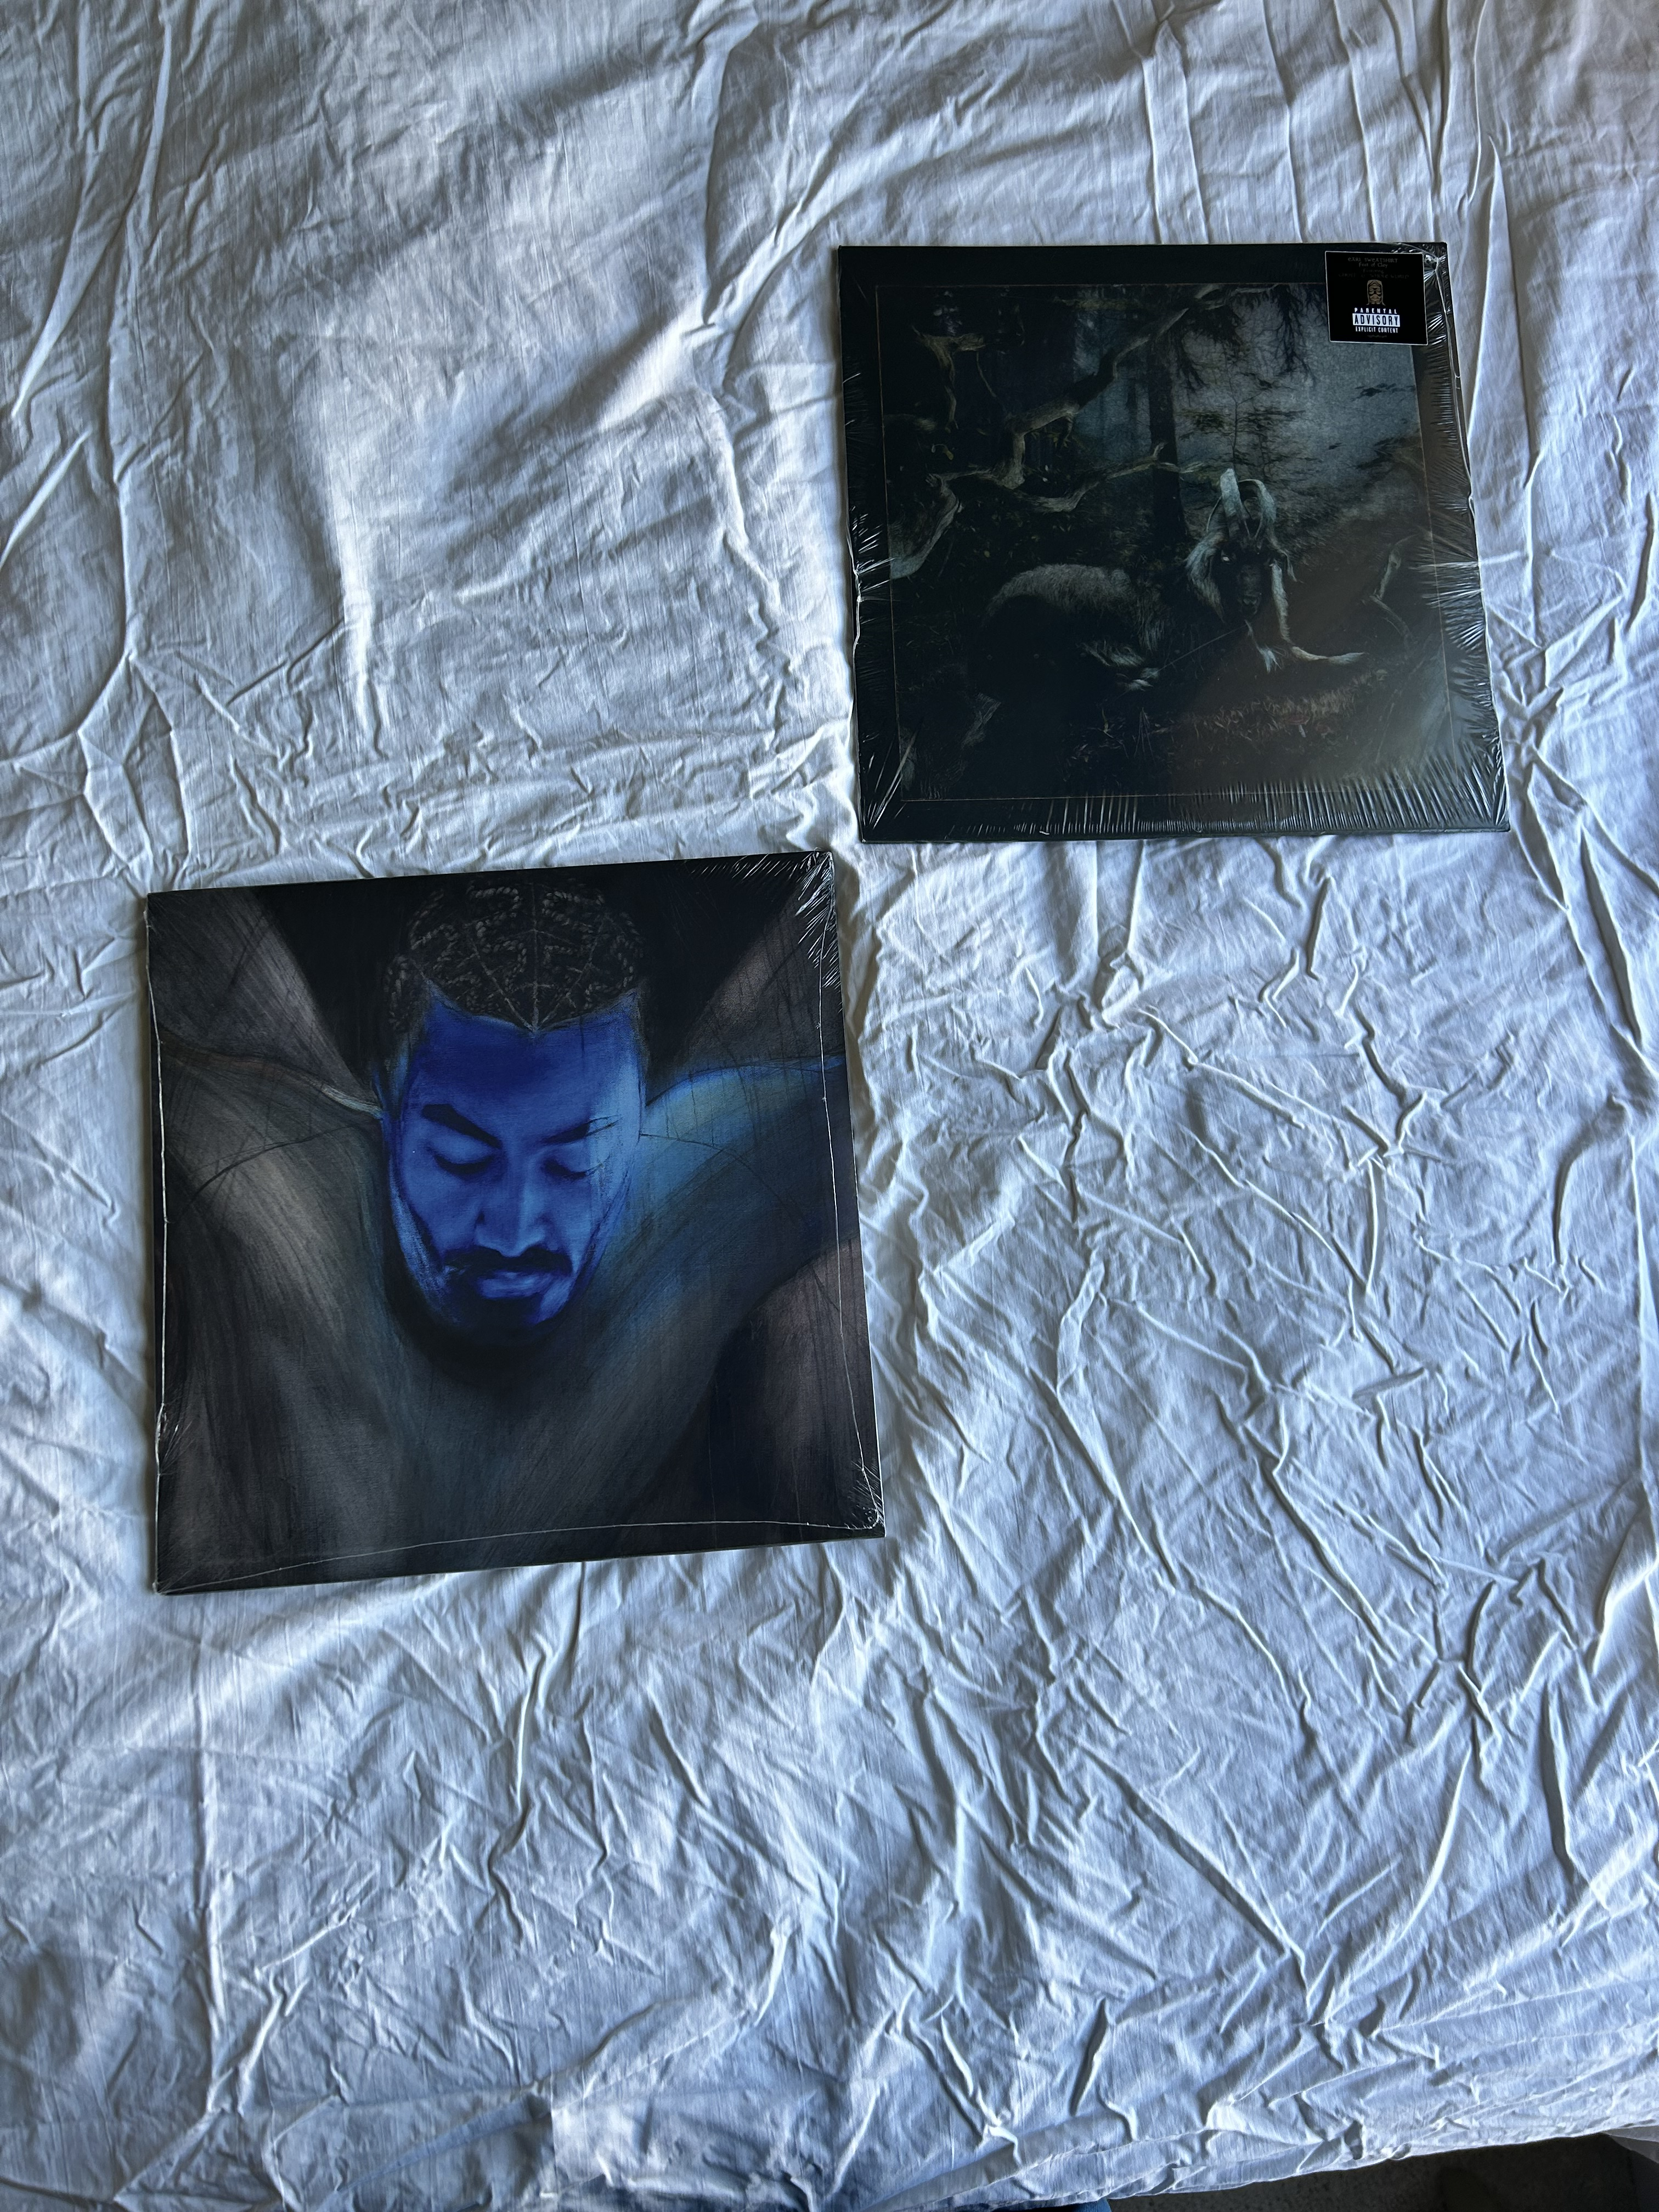earl sweatchirt_feet of clay: (821, 237, 1506, 857)
navy blue_song of sage: post panic!: (113, 880, 856, 1601)
